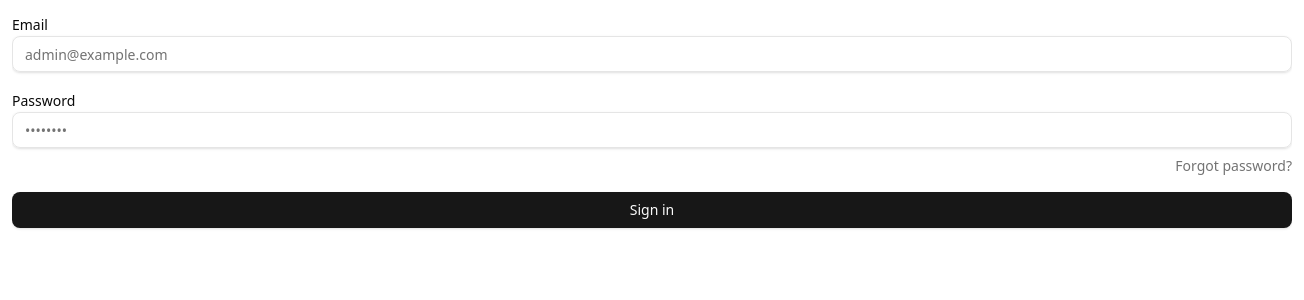
Test: LoginForm › validation › clears email error when valid value entered
// Enter invalid email
Type "invalid" into the field labelled "Email" at [652, 54], box [12, 36, 1292, 72]
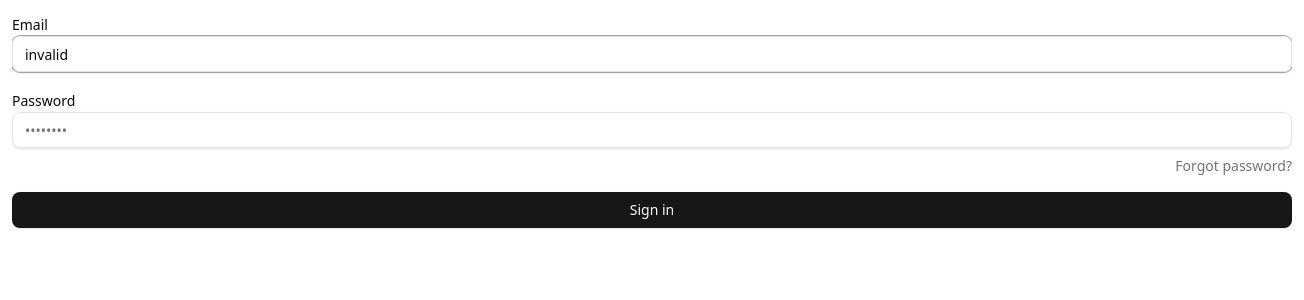
Press Tab
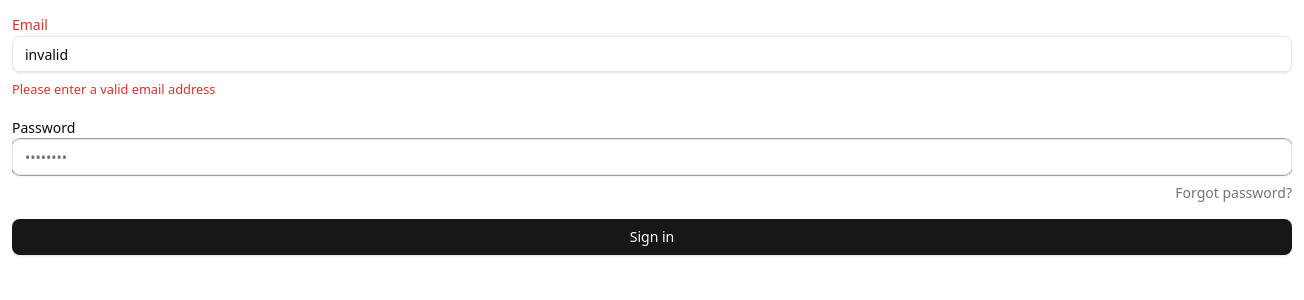
Expected: the text "Please enter a valid email address" is shown, [12, 80, 215, 98]
// Fix the email
Replace the text in the field labelled "Email" with "valid@example.com" at [652, 54], box [12, 36, 1292, 72]
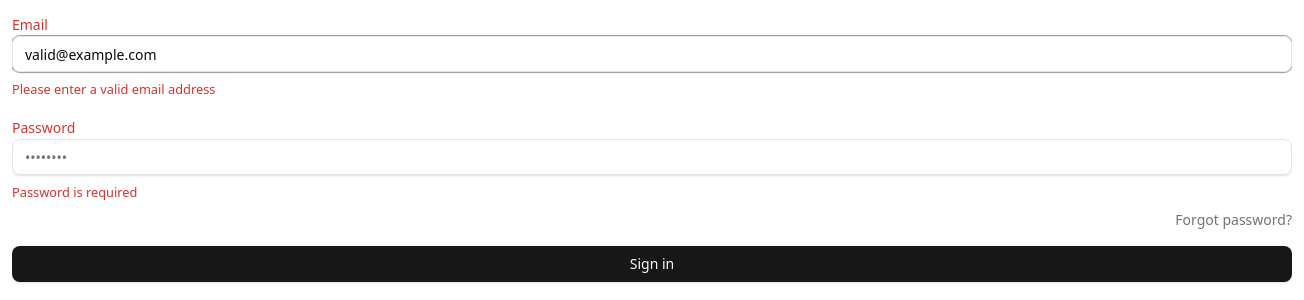
Press Tab
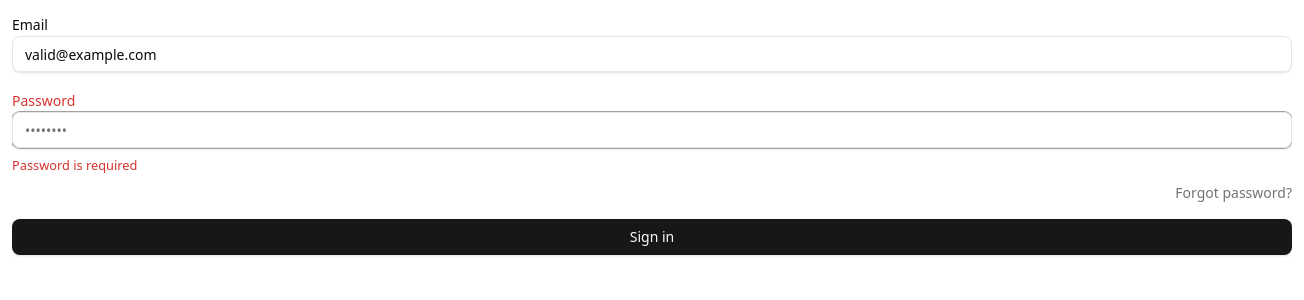
Expected: the text "Please enter a valid email address" is gone
